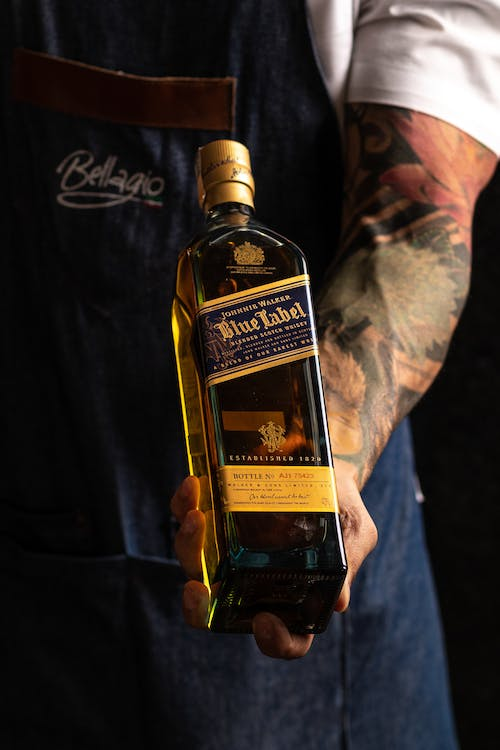alcohol: (165, 137, 349, 639)
